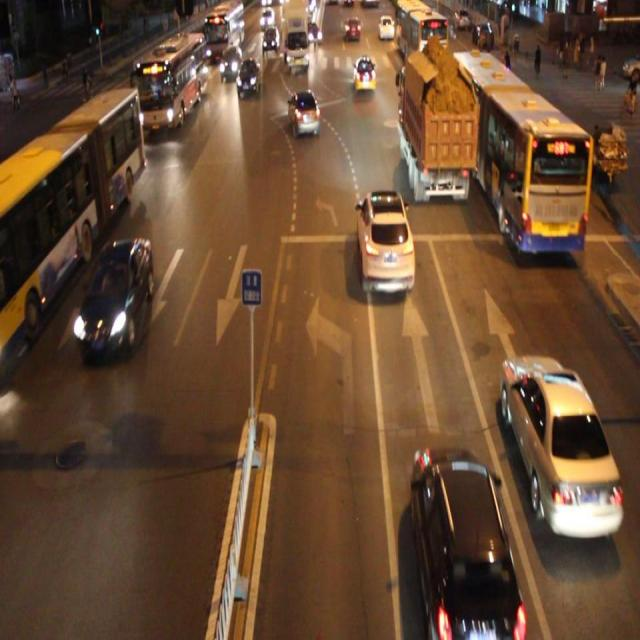bus: (399, 52, 470, 198)
car: (502, 356, 624, 536), (411, 447, 522, 640), (79, 239, 152, 355), (357, 190, 414, 292), (288, 88, 320, 138), (235, 57, 260, 99), (352, 56, 376, 91)
van: (0, 90, 140, 366), (453, 50, 587, 258), (136, 32, 204, 132)
